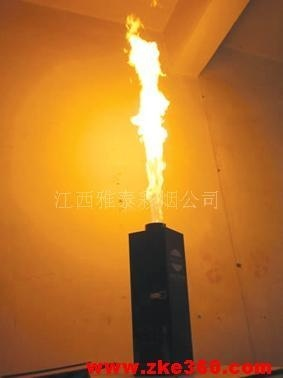fire: (119, 4, 172, 214)
